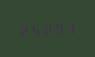five: (30, 21, 41, 37)
nine: (54, 19, 65, 35)
three: (66, 18, 77, 34)
two: (18, 22, 29, 38), (42, 20, 53, 36)
